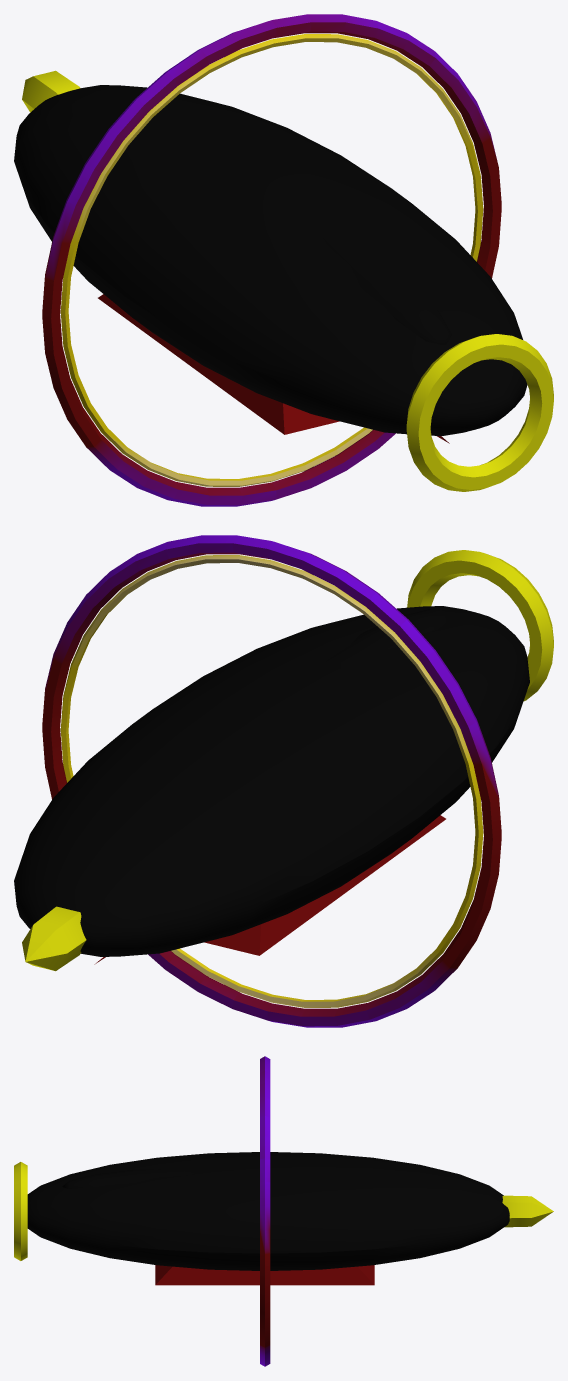
Rendered from inhumanus_proxy_frigate.fbx.
The picture shows the model from 3 angles, top to bottom: view 1: azimuth 30°, elevation 25°; view 2: azimuth 150°, elevation 25°; view 3: azimuth 270°, elevation 25°; orthographic projection. The views are drawn at different scales.
Parts seen in each view (by area): view 1: inhumanus_proxy_frigate; view 2: inhumanus_proxy_frigate; view 3: inhumanus_proxy_frigate.
Boxes of the visible parts, x1,y1,x2,y2 form: inhumanus_proxy_frigate: [14, 14, 553, 506]; inhumanus_proxy_frigate: [14, 535, 553, 1027]; inhumanus_proxy_frigate: [14, 1056, 553, 1366].
Size of the model in its own units: 0.7176 by 0.7176 by 1.25.
